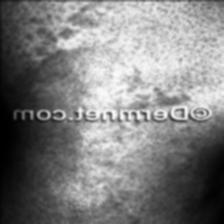Toxin: (5, 40, 193, 106)
